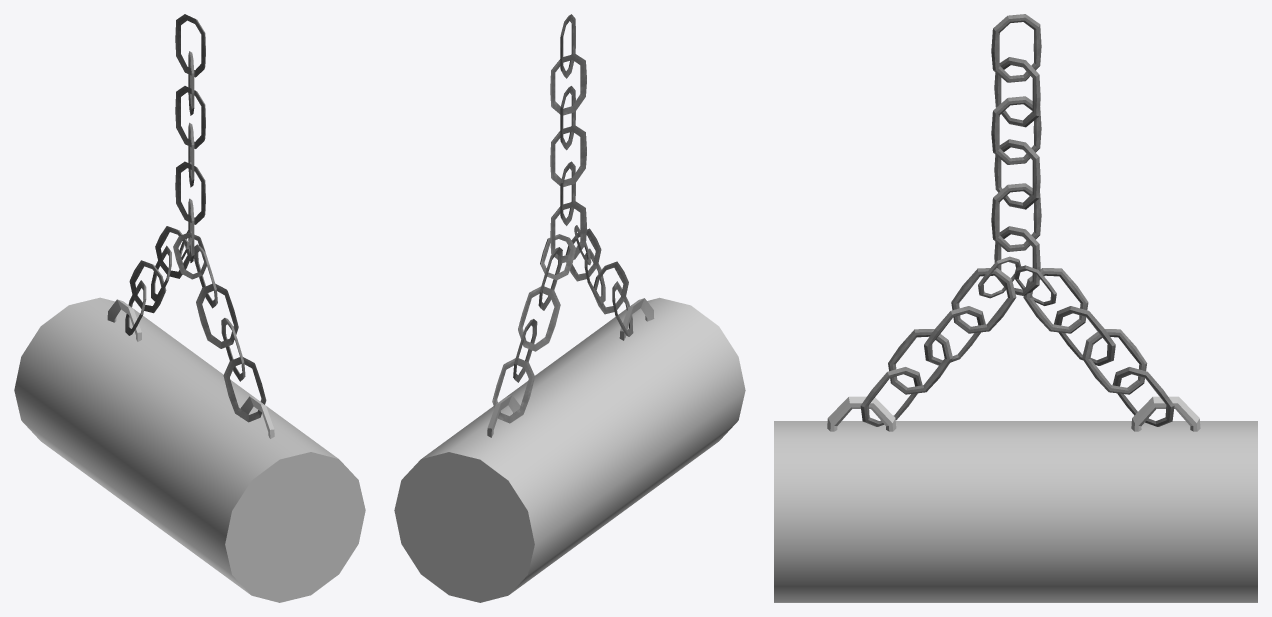
File: Maruta.fbx
3 renders of one model, left to right at view 1: azimuth 30°, elevation 25°; view 2: azimuth 150°, elevation 25°; view 3: azimuth 270°, elevation 25°, orthographic. The views are drawn at different scales.
Visible parts, largest first — view 1: pCylinder16, pTorus17; view 2: pCylinder16, pTorus17; view 3: pCylinder16, pTorus17.
Part boxes in pixels (x1,y1,x2,y2): pCylinder16: (14, 297, 365, 602); pTorus17: (107, 14, 274, 438); pCylinder16: (394, 297, 745, 602); pTorus17: (487, 14, 654, 437); pCylinder16: (774, 421, 1257, 602); pTorus17: (827, 14, 1200, 431).
Bounding box in the file's own units: 140 × 481 × 364.
